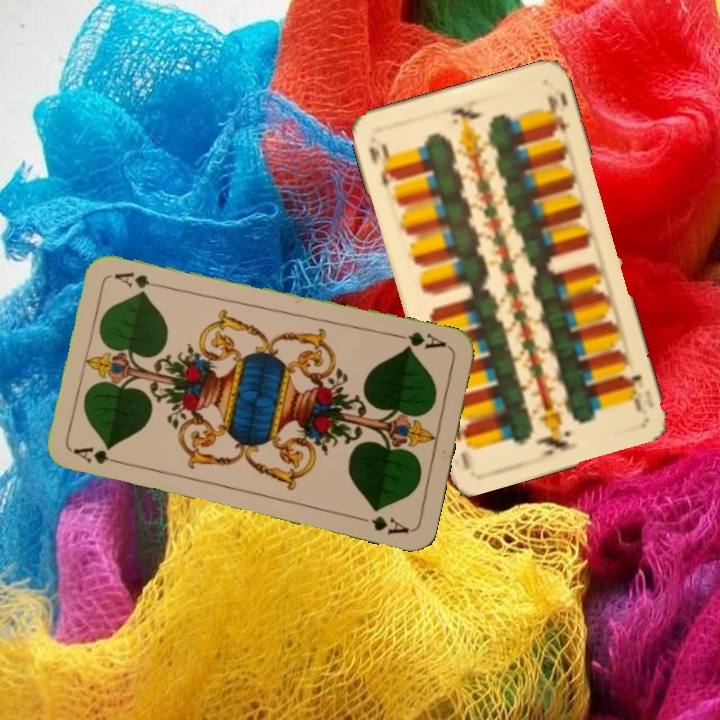E10: (365, 140, 398, 192), (618, 369, 644, 414)
GA: (69, 443, 128, 468), (393, 328, 451, 353)
